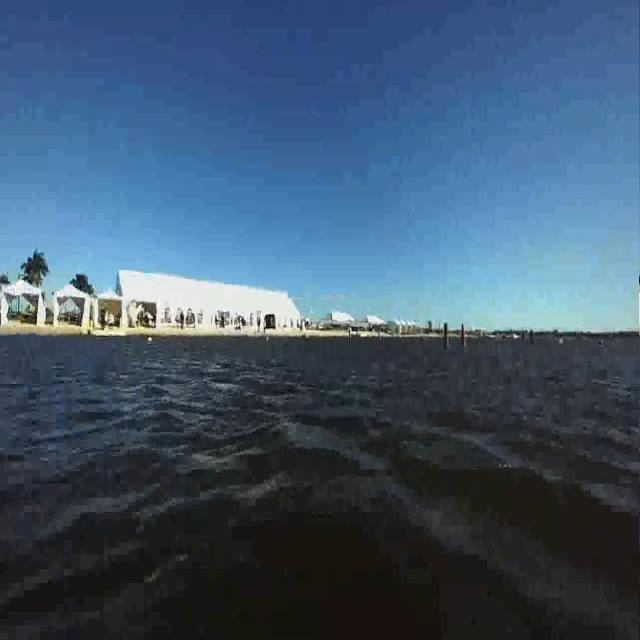red-column-buoy: (459, 318, 468, 349)
